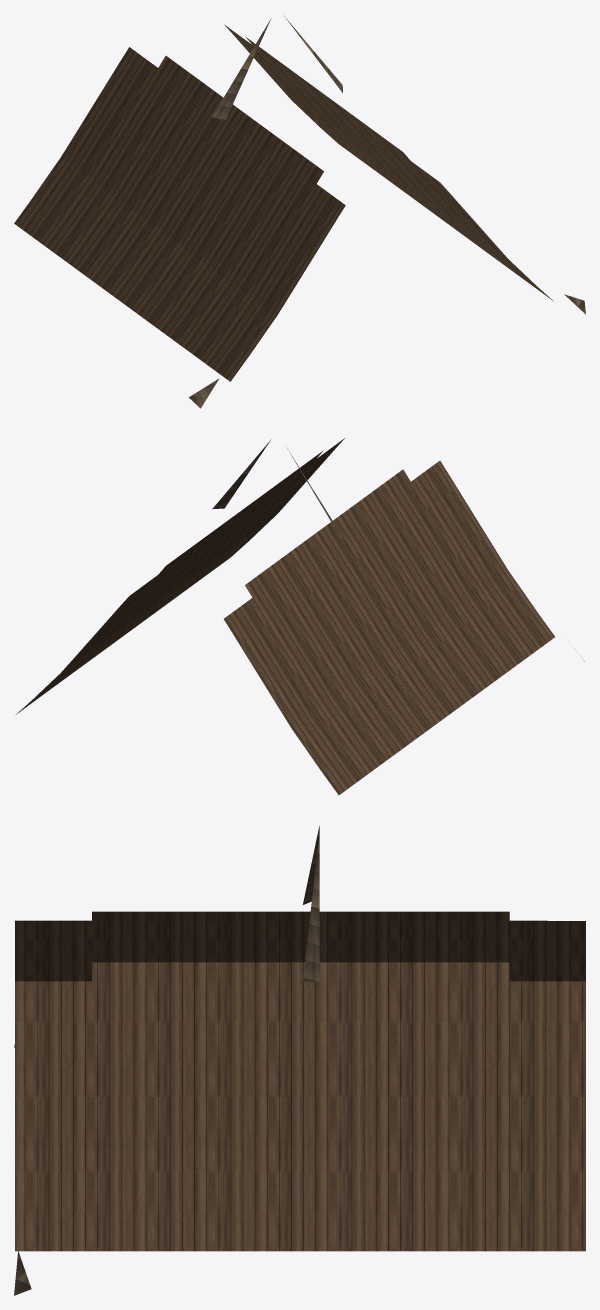
The model's file is Roof_Shingle_8x8_LOD2.gltf.
3 renders of one model, top to bottom at view 1: azimuth 30°, elevation 25°; view 2: azimuth 150°, elevation 25°; view 3: azimuth 270°, elevation 25°, orthographic. The views are drawn at different scales.
Visible parts, largest first — view 1: Roof_Shingle_8x8_LOD2; view 2: Roof_Shingle_8x8_LOD2; view 3: Roof_Shingle_8x8_LOD2.
Boxes of the visible parts, x1=… form: Roof_Shingle_8x8_LOD2: x1=14, y1=15, x2=585, y2=408; Roof_Shingle_8x8_LOD2: x1=16, y1=438, x2=584, y2=795; Roof_Shingle_8x8_LOD2: x1=14, y1=825, x2=585, y2=1295.
Bounding box in the file's own units: 9.95 × 6.27 × 9.44.
2 materials, 2 textured.
